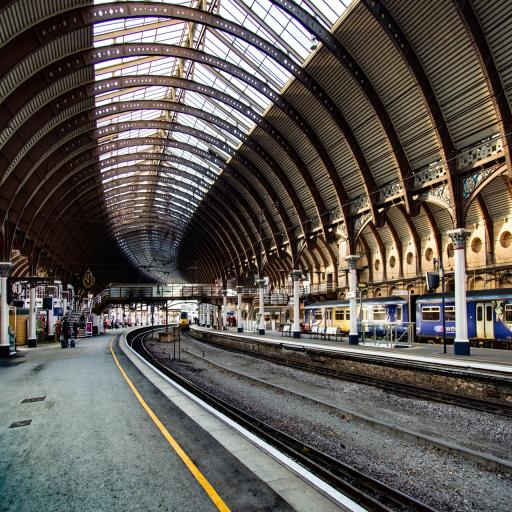platform_edge: (99, 345, 313, 512)
